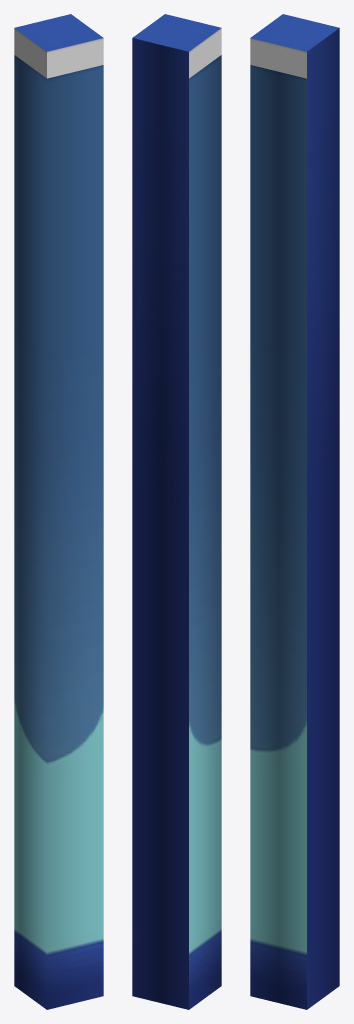
Rendered from my_poolparty_01_b_wall_side.glb.
3 renders of one model, left to right at view 1: azimuth 30°, elevation 25°; view 2: azimuth 150°, elevation 25°; view 3: azimuth 330°, elevation 25°, orthographic.
Parts seen in each view (by area): view 1: my_poolparty_01_b_wall_side; view 2: my_poolparty_01_b_wall_side; view 3: my_poolparty_01_b_wall_side.
Boxes of the visible parts, x1=… form: my_poolparty_01_b_wall_side: x1=14, y1=14, x2=103, y2=1009; my_poolparty_01_b_wall_side: x1=132, y1=14, x2=221, y2=1009; my_poolparty_01_b_wall_side: x1=250, y1=14, x2=339, y2=1009.
Bounding box in the file's own units: 0.00297 × 0.048 × 0.00297.
Materials: 1 (1 with a texture image).
